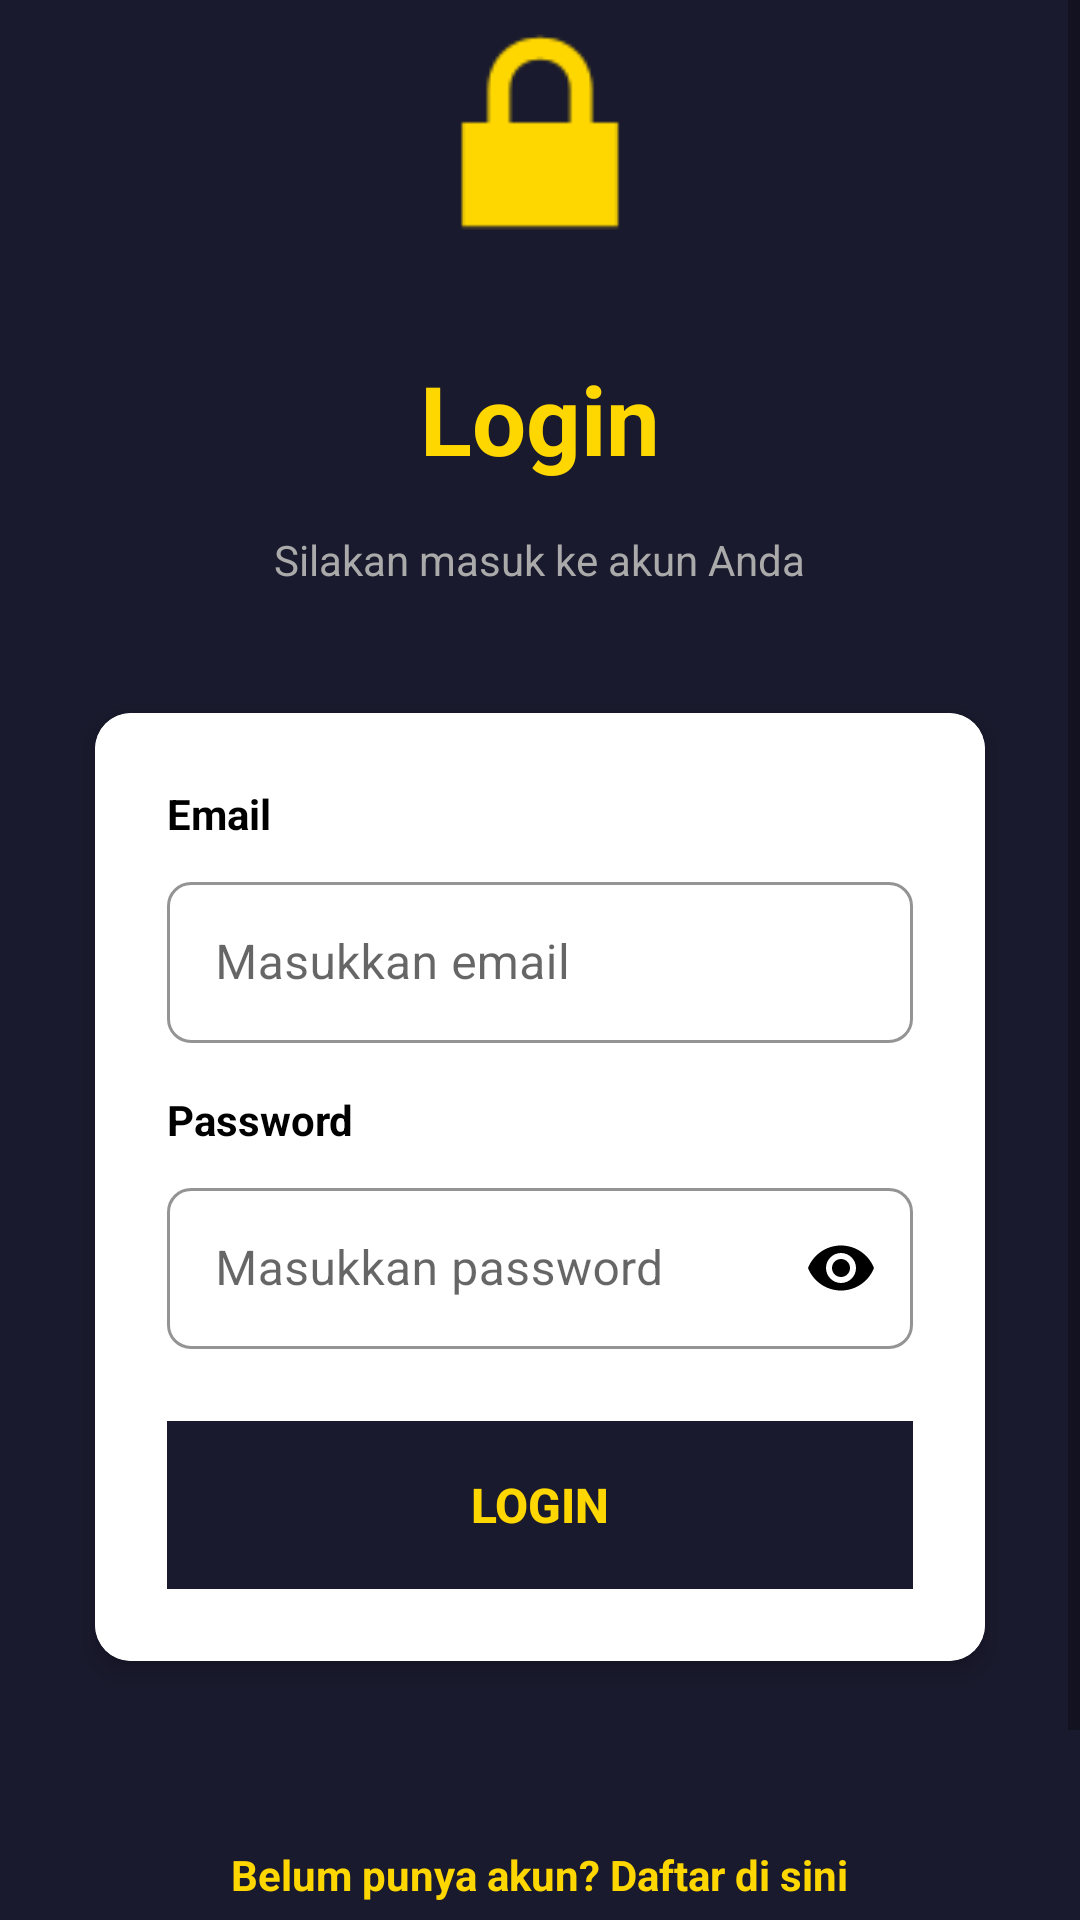

Icon bounding boxes for this 1080 × 1920 phone screenshot, format (x1, y1, x2, y2):
lock: (461, 35, 619, 229)
